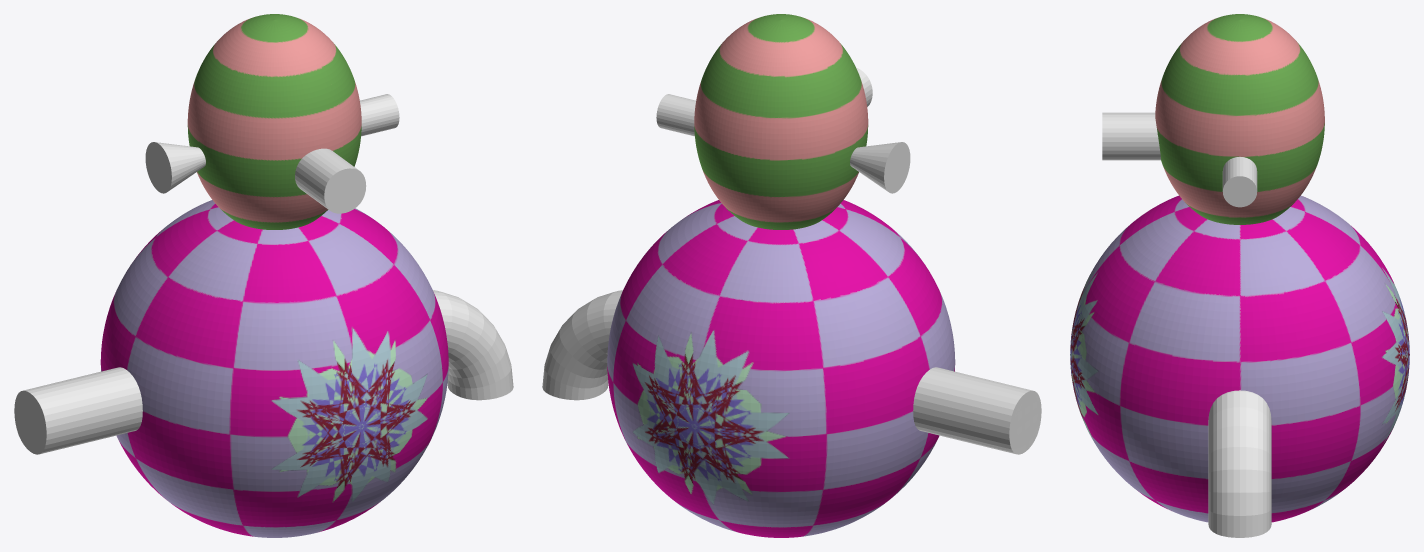
File: BOD0_BMC16_BCC10_BPT4_FRC19_HEA2_HMC11_HCC7_HPT1_ELT3_ERT1_ELL1_ERL0_AP3_AAL0_AAR2_BEK1.fbx
3 renders of one model, left to right at view 1: azimuth 30°, elevation 25°; view 2: azimuth 150°, elevation 25°; view 3: azimuth 270°, elevation 25°, orthographic. The views are drawn at different scales.
Parts seen in each view (by area): view 1: Body, Arm.001, Arm, Beak, Ear, Ear.001; view 2: Body, Arm.001, Arm, Ear, Ear.001; view 3: Body, Arm, Beak, Ear.001.
Part boxes in pixels (bbox=[...]): Body: bbox=[100, 14, 448, 537]; Arm.001: bbox=[14, 367, 142, 454]; Arm: bbox=[433, 290, 513, 400]; Beak: bbox=[295, 148, 366, 213]; Ear: bbox=[145, 142, 205, 193]; Ear.001: bbox=[360, 94, 399, 136]; Body: bbox=[607, 14, 955, 537]; Arm.001: bbox=[913, 367, 1041, 454]; Arm: bbox=[542, 290, 622, 400]; Ear: bbox=[850, 142, 910, 193]; Ear.001: bbox=[656, 94, 695, 136]; Body: bbox=[1070, 14, 1409, 522]; Arm: bbox=[1208, 390, 1271, 537]; Beak: bbox=[1102, 112, 1160, 160]; Ear.001: bbox=[1222, 157, 1257, 207].
Size of the model in its own units: 78.31 by 78.65 by 49.36.
1 material, 1 textured.
